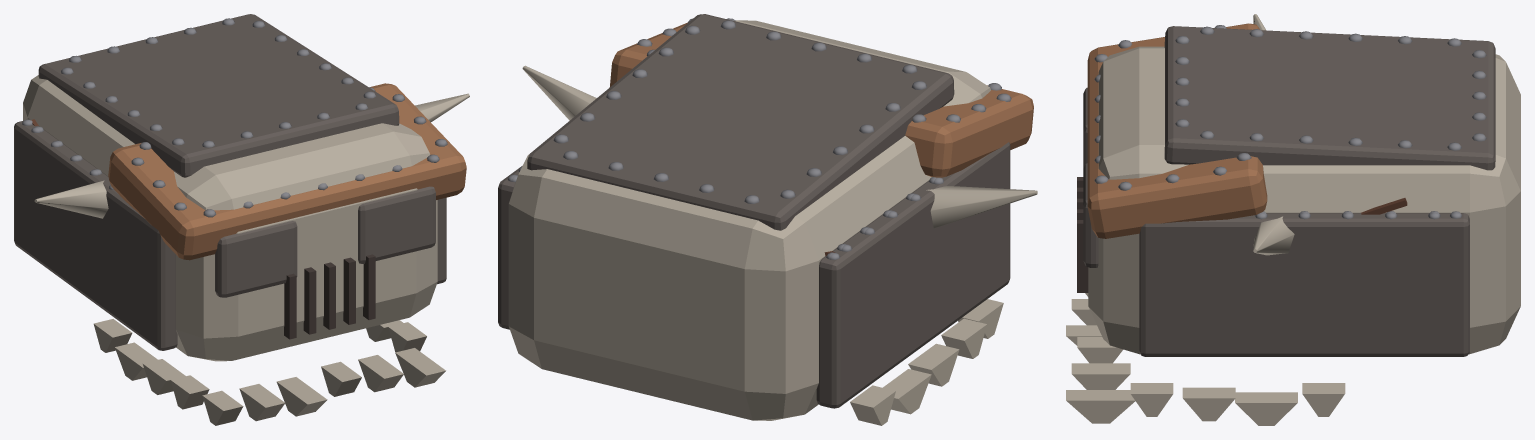
Rendered from gleaner_skull.glb.
3 views of the same model, side by side, from view 1: azimuth 30°, elevation 25°; view 2: azimuth 150°, elevation 25°; view 3: azimuth 270°, elevation 25° (orthographic). The views are drawn at different scales.
Visible parts, largest first — view 1: gl_bone, gl_iron, gl_iron.001, gl_rust, gl_iron.002, gl_iron.004, gl_bone.001, gl_bone.008, gl_bone.005, gl_bone.004, gl_bone.007, gl_bone.003 (+13 smaller); view 2: gl_bone, gl_iron, gl_iron.001, gl_rust, gl_bone.001, gl_iron.003, gl_bone.002, gl_bone.011, gl_bone.010, gl_bone.012, gl_bone.009, gl_bone.003; view 3: gl_iron.003, gl_iron, gl_bone, gl_rust, gl_bone.008, gl_bone.015, gl_bone.014, gl_bone.007, gl_bone.002, gl_bone.013, gl_bone.016, gl_iron.004 (+4 smaller).
Boxes of the visible parts, x1,y1,x2,y2 form: gl_bone: (23,75,437,361); gl_iron: (38,14,399,177); gl_iron.001: (14,120,177,350); gl_rust: (108,83,466,260); gl_iron.002: (215,221,297,297); gl_iron.004: (358,186,435,263); gl_bone.001: (34,180,108,218); gl_bone.008: (395,348,445,387); gl_bone.005: (276,377,327,416); gl_bone.004: (239,384,285,421); gl_bone.007: (358,355,403,392); gl_bone.003: (202,390,243,425); gl_bone: (508,20,990,420); gl_iron: (527,14,954,230); gl_iron.001: (816,142,1010,408); gl_rust: (609,22,1033,177); gl_bone.001: (926,186,1037,228); gl_iron.003: (498,166,522,329); gl_bone.002: (522,65,596,120); gl_bone.011: (883,369,931,414); gl_bone.010: (908,343,959,386); gl_bone.012: (850,385,895,425); gl_bone.009: (941,318,987,358); gl_bone.003: (958,299,1003,338); gl_iron.003: (1139,213,1469,356); gl_iron: (1164,26,1495,170); gl_bone: (1088,46,1520,354); gl_rust: (1087,23,1267,238); gl_bone.008: (1066,390,1135,423); gl_bone.015: (1235,392,1297,425); gl_bone.014: (1182,387,1235,421); gl_bone.007: (1071,363,1130,389); gl_bone.002: (1253,216,1294,255); gl_bone.013: (1130,383,1173,416); gl_bone.016: (1302,383,1345,416); gl_iron.004: (1083,163,1098,267).
Bounding box in the file's own units: 43.92 × 24.82 × 35.75.
